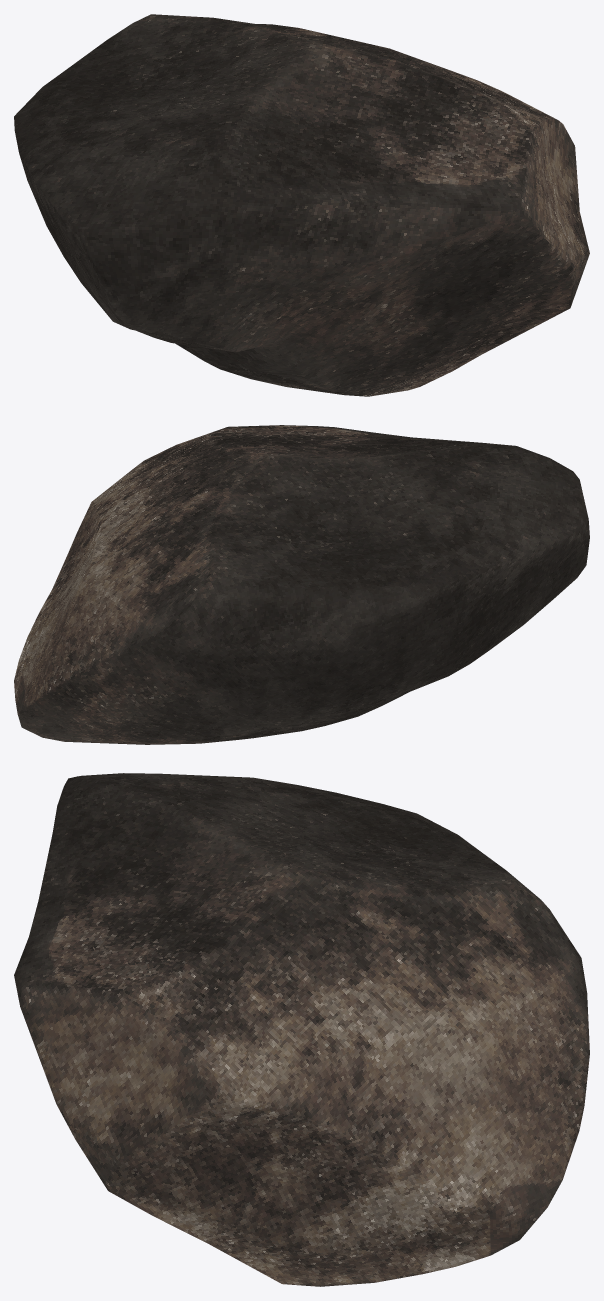
File: SM_RP_Rock_8m_4K.glb
3 views of the same model, one above another, from view 1: azimuth 30°, elevation 25°; view 2: azimuth 150°, elevation 25°; view 3: azimuth 270°, elevation 25° (orthographic). The views are drawn at different scales.
Parts seen in each view (by area): view 1: SM_RP_Rock_8m_4K; view 2: SM_RP_Rock_8m_4K; view 3: SM_RP_Rock_8m_4K.
Boxes of the visible parts, x1,y1,x2,y2 form: SM_RP_Rock_8m_4K: (14,14,589,396); SM_RP_Rock_8m_4K: (14,425,589,744); SM_RP_Rock_8m_4K: (14,773,589,1286).
Bounding box in the file's own units: 12.77 × 8.19 × 11.94.
1 material, 1 textured.
